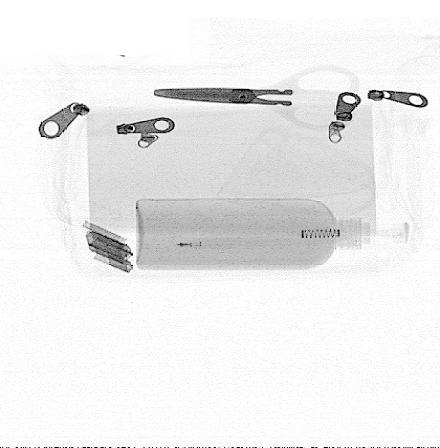Scissors: (150, 63, 363, 133)
